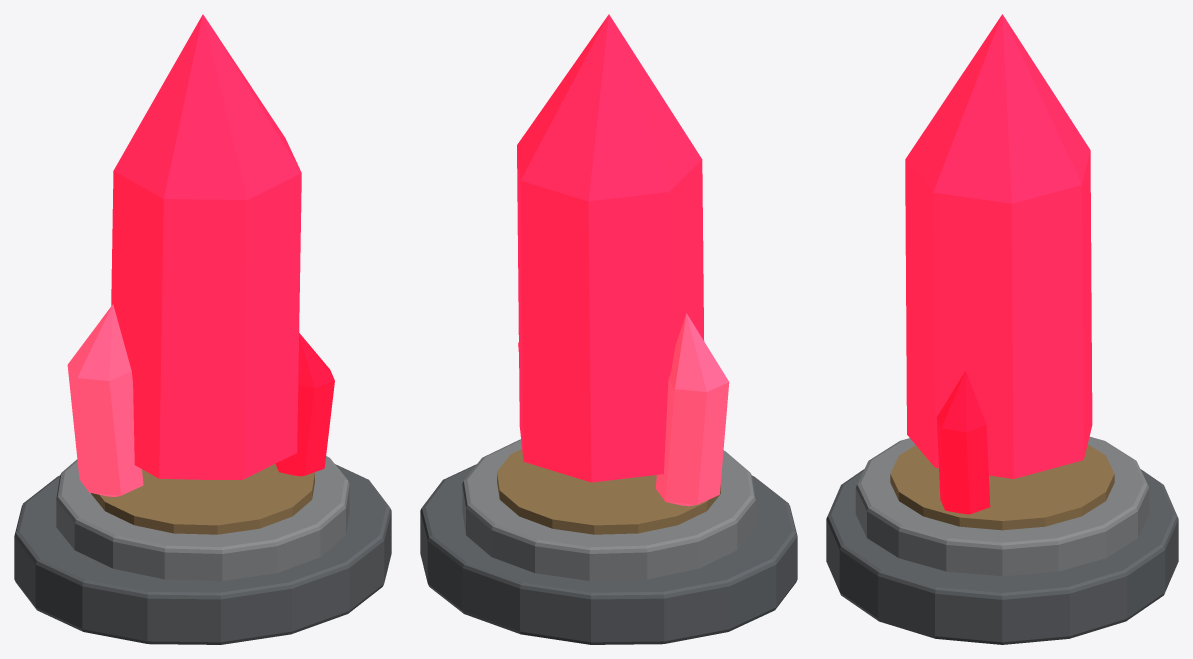
Rendered from Realistic_MagicStone_A.fbx.
The picture shows the model from 3 angles, left to right: view 1: azimuth 30°, elevation 25°; view 2: azimuth 150°, elevation 25°; view 3: azimuth 270°, elevation 25°; orthographic projection.
Parts seen in each view (by area): view 1: Crystal.004, Pedestal.004, Pedestal_Ring.002, Pedestal_Inlay, Crystal_Shard_A.003, Crystal_Shard_B.003; view 2: Crystal.004, Pedestal.004, Pedestal_Ring.002, Pedestal_Inlay, Crystal_Shard_A.003; view 3: Crystal.004, Pedestal.004, Pedestal_Ring.002, Pedestal_Inlay, Crystal_Shard_B.003.
Boxes of the visible parts, <box> form: Crystal.004: <box>111,14,301,479</box>; Pedestal.004: <box>14,464,391,644</box>; Pedestal_Ring.002: <box>56,456,349,580</box>; Pedestal_Inlay: <box>91,464,314,534</box>; Crystal_Shard_A.003: <box>67,304,143,496</box>; Crystal_Shard_B.003: <box>275,333,334,476</box>; Crystal.004: <box>517,14,704,482</box>; Pedestal.004: <box>420,464,797,644</box>; Pedestal_Ring.002: <box>462,439,755,580</box>; Pedestal_Inlay: <box>497,449,720,534</box>; Crystal_Shard_A.003: <box>655,313,729,506</box>; Crystal.004: <box>905,14,1092,478</box>; Pedestal.004: <box>826,469,1178,644</box>; Pedestal_Ring.002: <box>855,436,1149,576</box>; Pedestal_Inlay: <box>890,444,1114,530</box>; Crystal_Shard_B.003: <box>936,370,990,514</box>.
Size of the model in its own units: 1.88 by 2.99 by 1.73.
